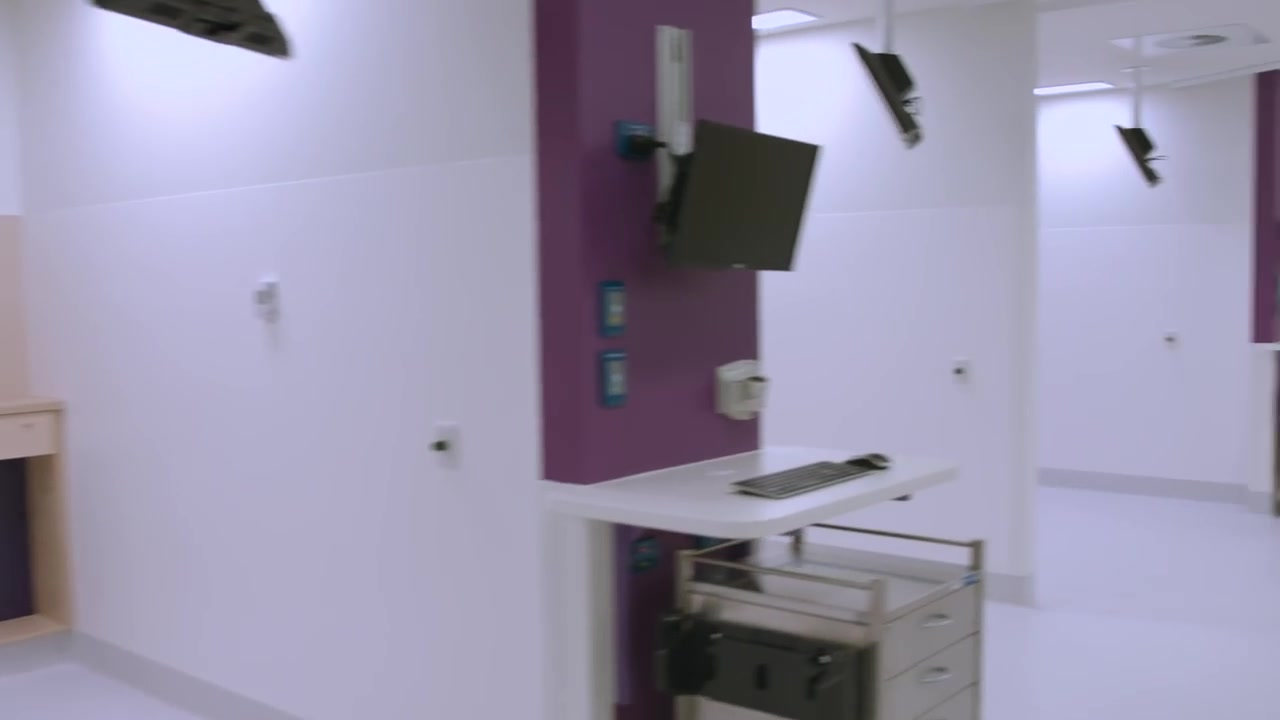TV: (78, 1, 295, 62), (850, 40, 925, 153), (1116, 120, 1169, 191)
computer: (670, 118, 822, 273)
countertop: (601, 446, 959, 540)
handle: (913, 611, 961, 632), (914, 663, 957, 684)
keyboard: (729, 460, 865, 498)
medical_drawer: (671, 522, 986, 720)
mouse: (844, 451, 891, 470)
